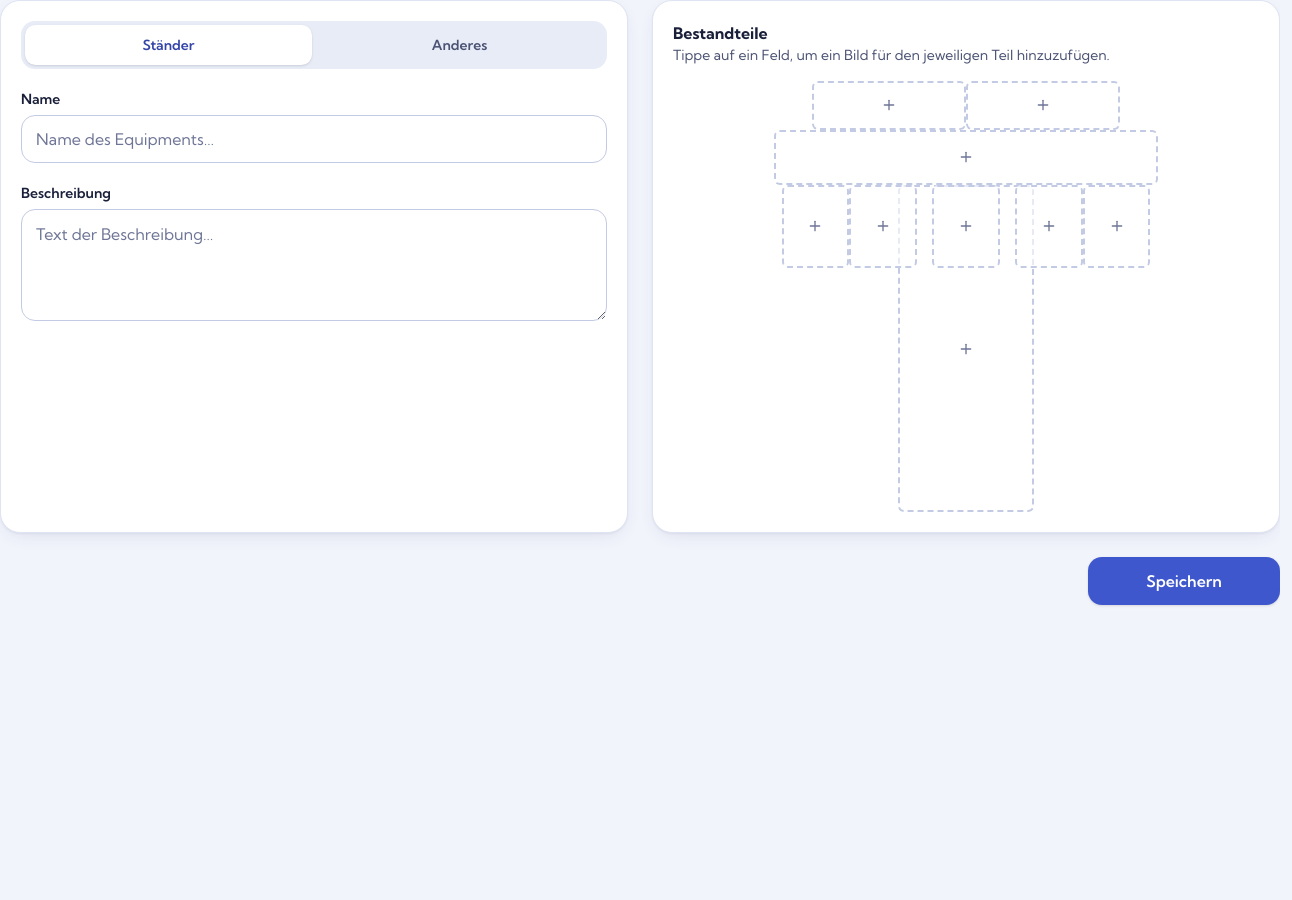
Test: EquipmentForm (create) › insists on a photo for other equipment
The width and height of the screenshot is (1292, 900).
Click the tab "Anderes" at (460, 45), box [316, 25, 603, 65]
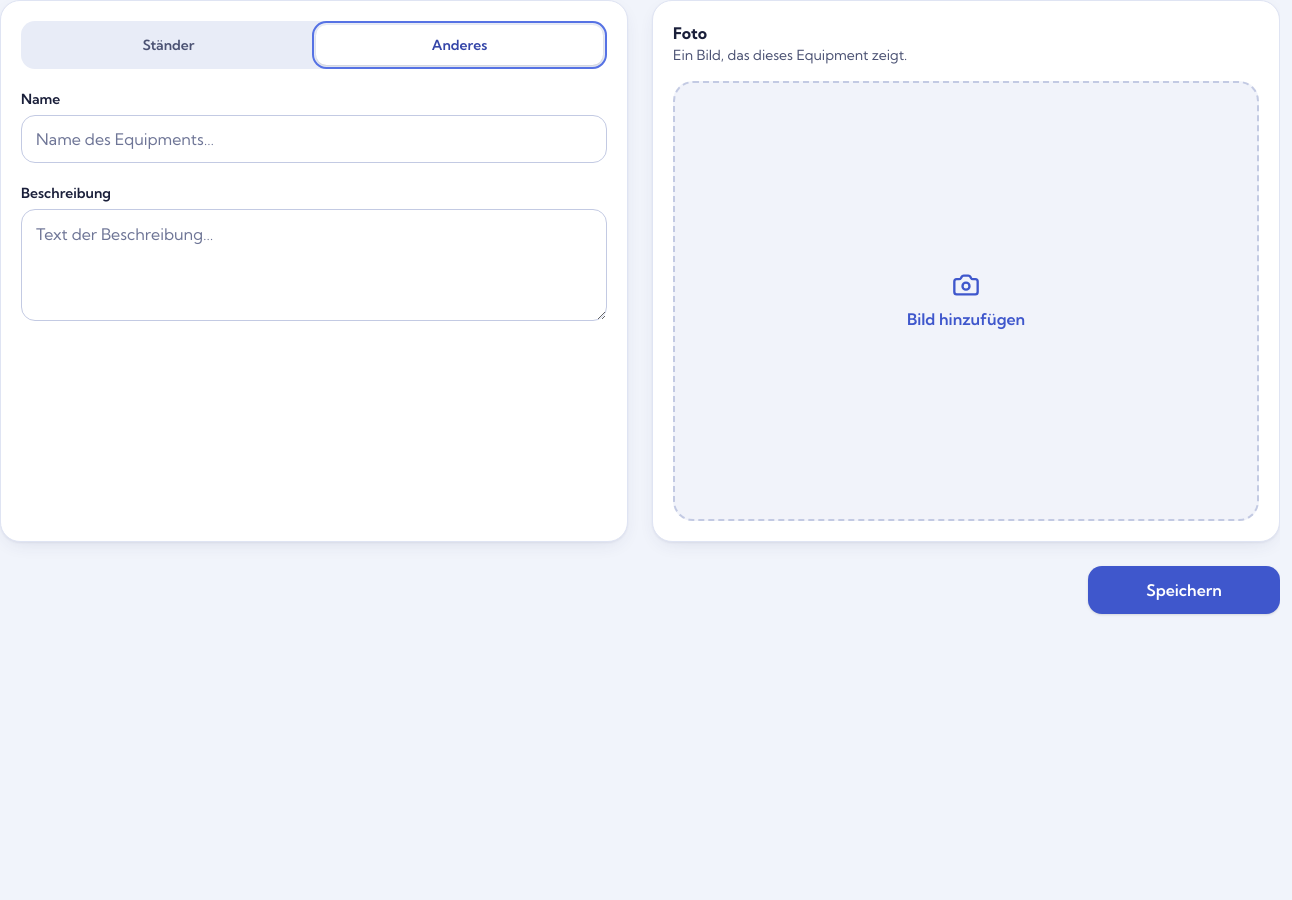
Type "Fog machine" into the field labelled "Name" at (314, 139), box [21, 115, 607, 163]
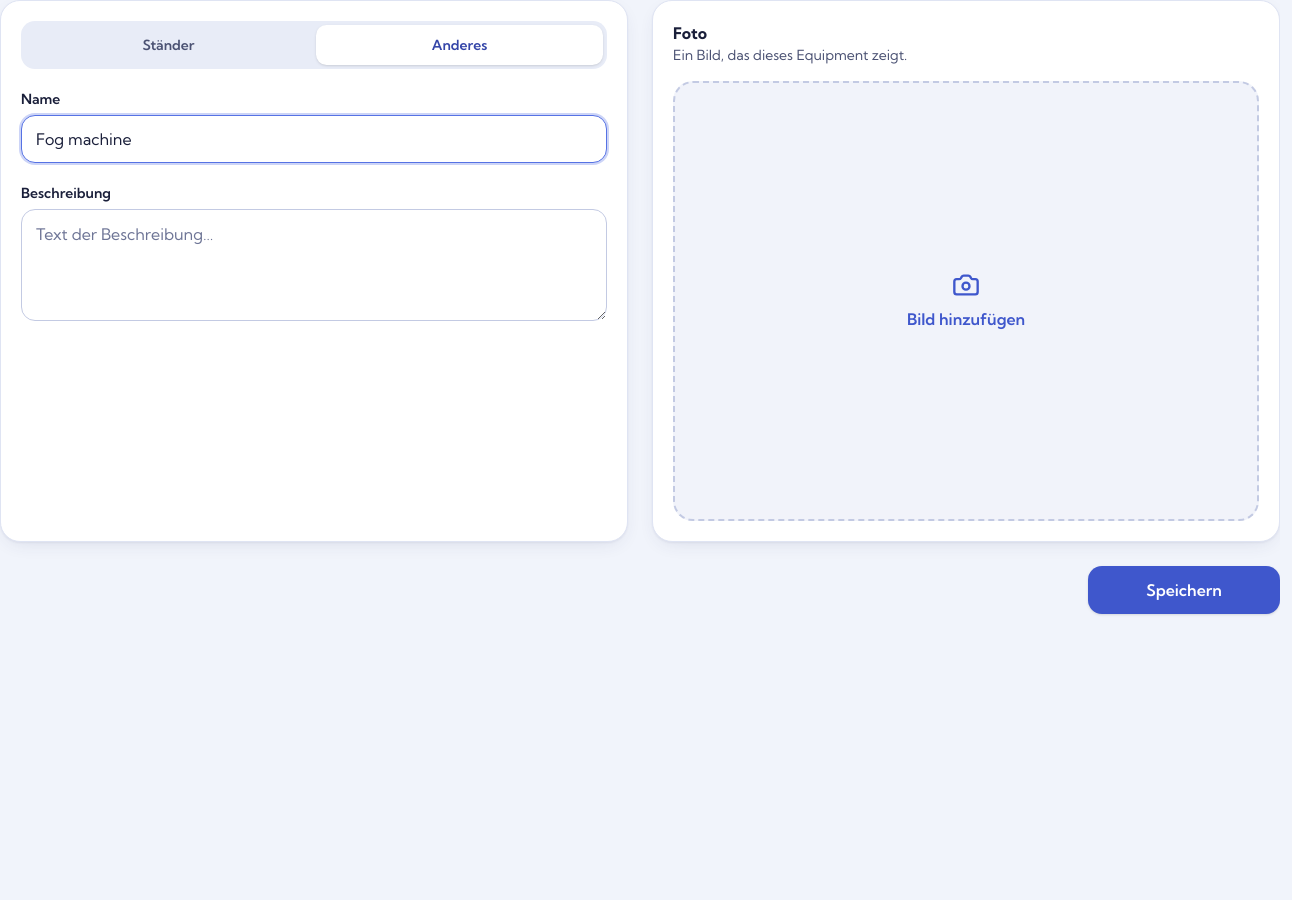
Click the button "Speichern" at (1184, 590), box [1088, 566, 1280, 614]
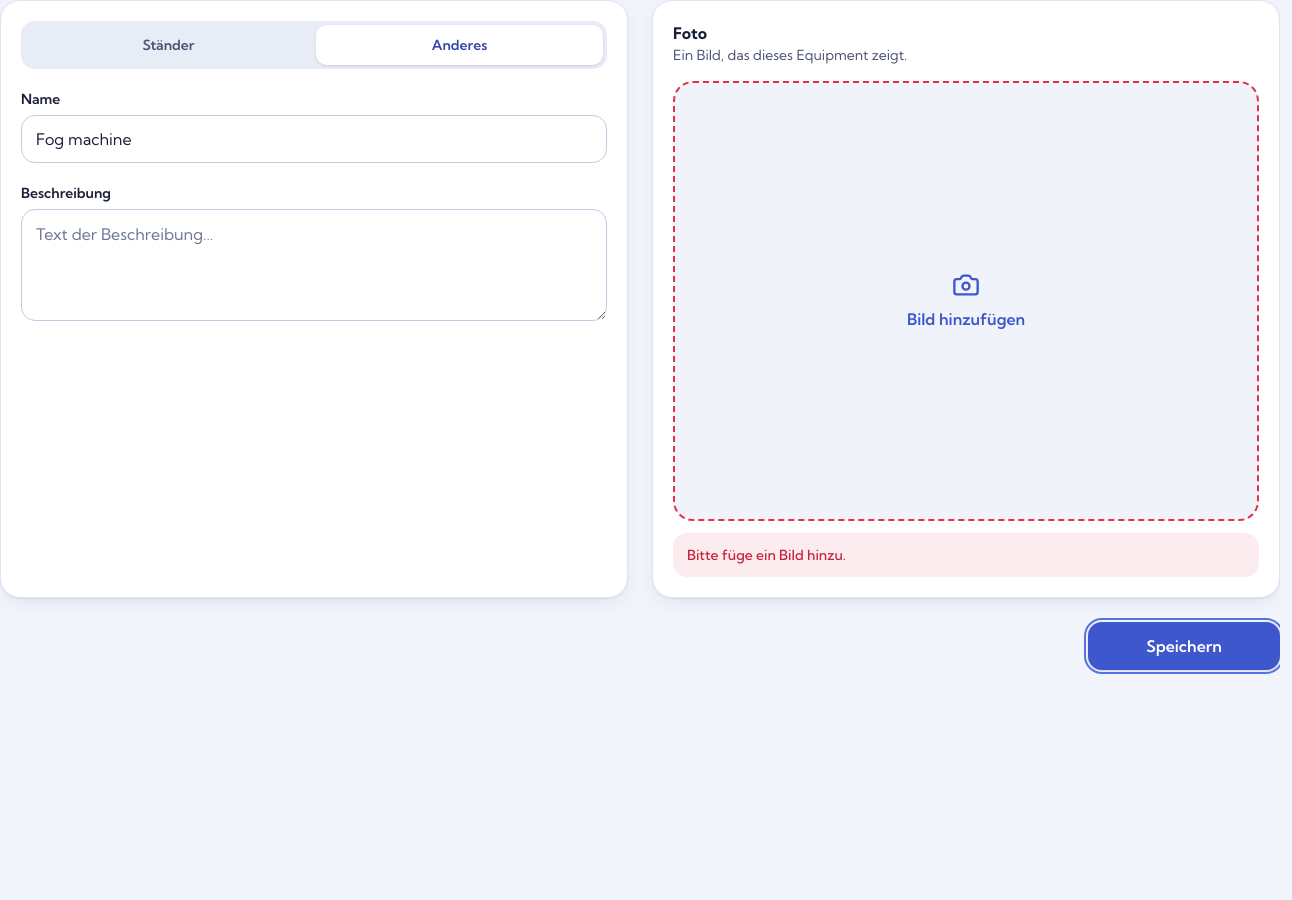
Now the text "Bitte füge ein Bild hinzu." is shown, box [673, 532, 1259, 576]
